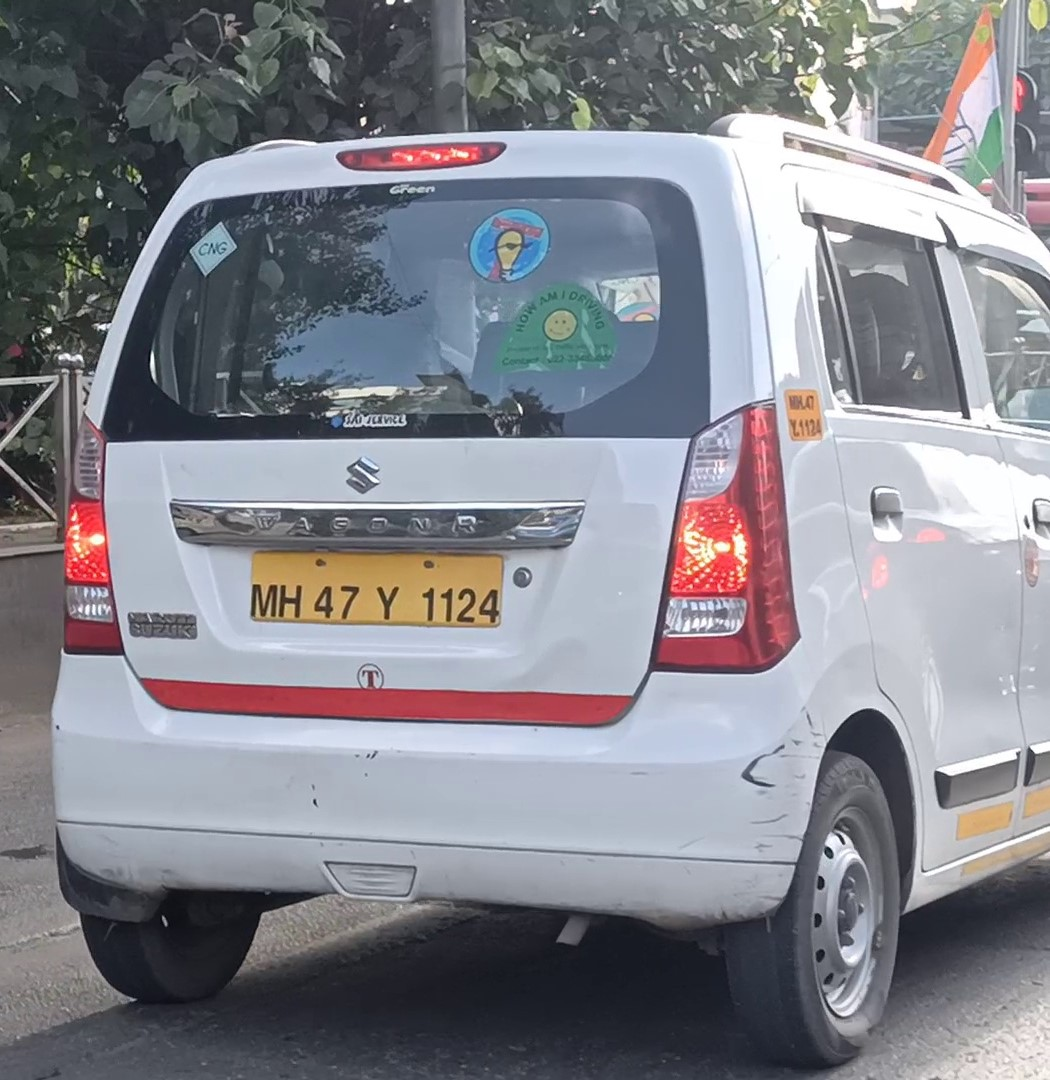MH47Y1124: (249, 550, 508, 631)
